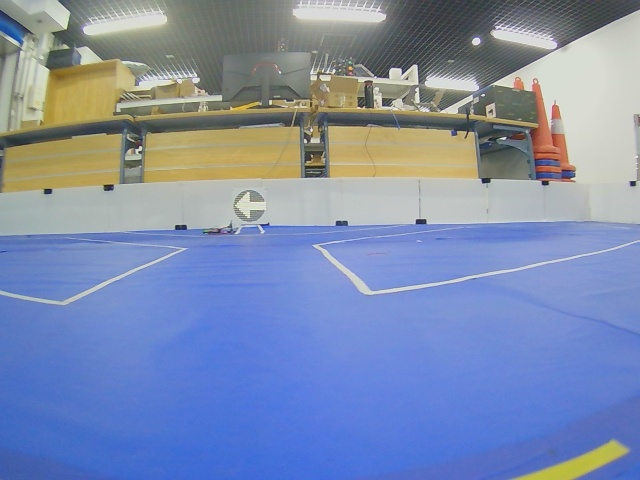left_yellow: (233, 190, 266, 223)
